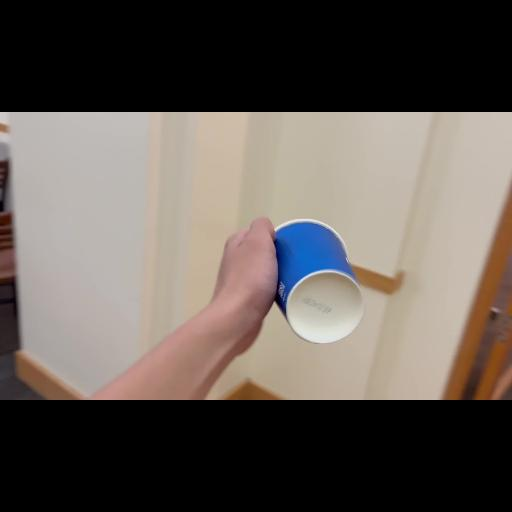lp_paper_cup: (250, 205, 376, 357)
